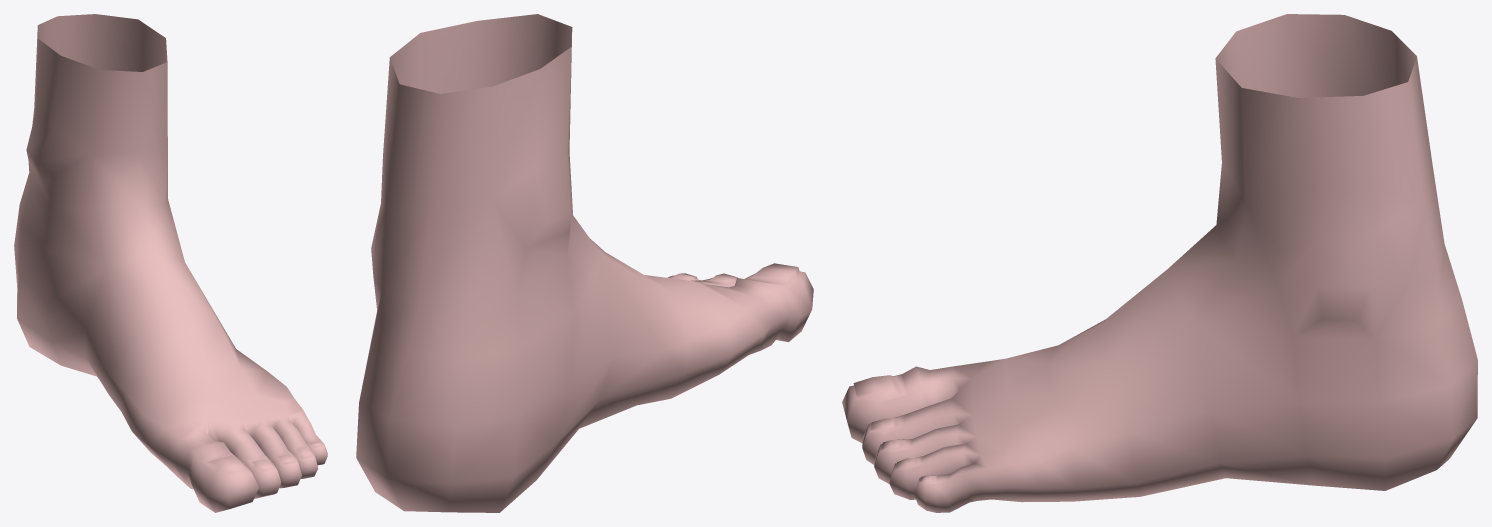
The model's file is Base_Male_A_Foot01.fbx.
3 renders of one model, left to right at view 1: azimuth 30°, elevation 25°; view 2: azimuth 150°, elevation 25°; view 3: azimuth 270°, elevation 25°, orthographic. The views are drawn at different scales.
Visible parts, largest first — view 1: Base_Male_A_Foot01; view 2: Base_Male_A_Foot01; view 3: Base_Male_A_Foot01.
Boxes of the visible parts, left/top/right/bottom form: Base_Male_A_Foot01: left=14, top=14, right=327, bottom=512; Base_Male_A_Foot01: left=356, top=14, right=813, bottom=512; Base_Male_A_Foot01: left=842, top=14, right=1477, bottom=512.
Size of the model in its own units: 0.5499 by 1.1 by 1.48.
